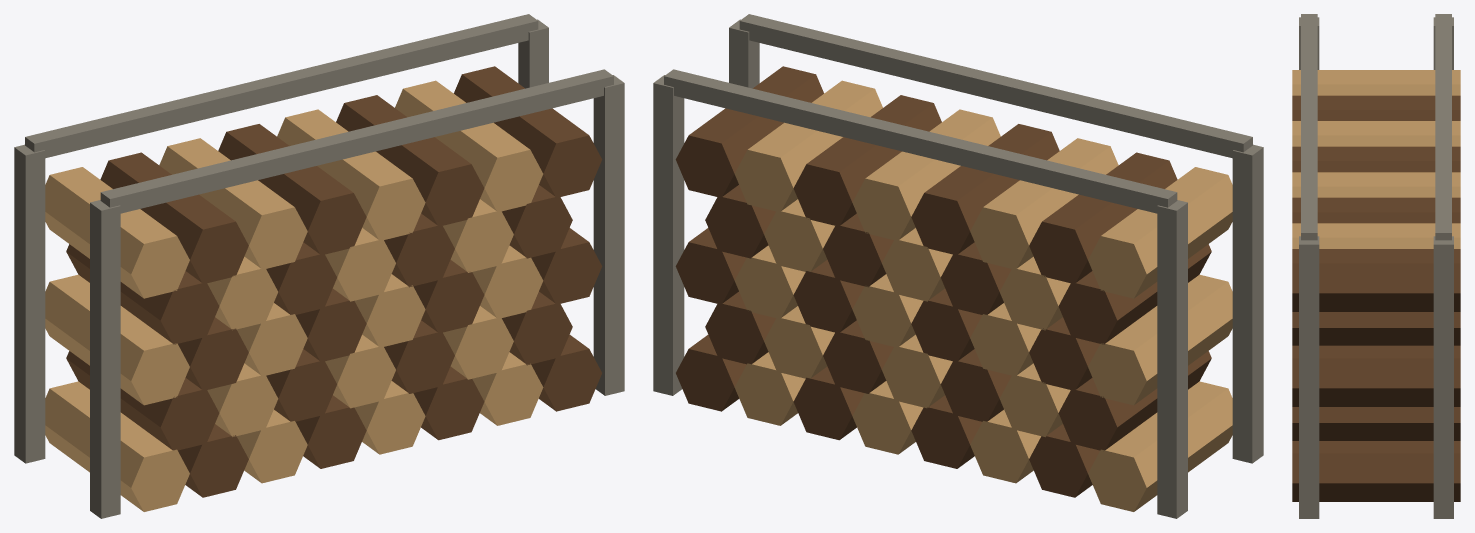
File: GT_FirewoodStack_01.glb
The picture shows the model from 3 angles, left to right: view 1: azimuth 30°, elevation 25°; view 2: azimuth 150°, elevation 25°; view 3: azimuth 270°, elevation 25°; orthographic projection. The views are drawn at different scales.
Visible parts, largest first — view 1: GT_FirewoodStack_01; view 2: GT_FirewoodStack_01; view 3: GT_FirewoodStack_01.
Boxes of the visible parts, left/top/right/bottom form: GT_FirewoodStack_01: left=14, top=14, right=624, bottom=518; GT_FirewoodStack_01: left=653, top=14, right=1263, bottom=518; GT_FirewoodStack_01: left=1292, top=14, right=1460, bottom=518.
Size of the model in its own units: 1.6 by 0.925 by 0.5.
Materials: 1 (1 with a texture image).
